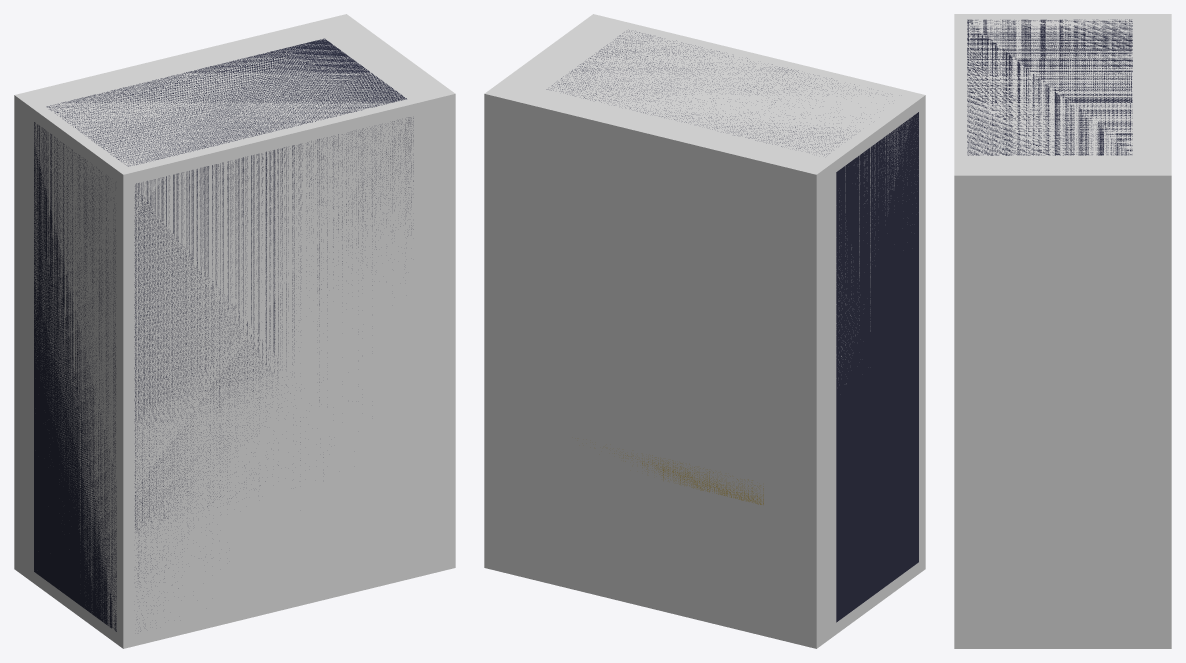
The model's file is time_clock_84.glb.
3 renders of one model, left to right at view 1: azimuth 30°, elevation 25°; view 2: azimuth 150°, elevation 25°; view 3: azimuth 270°, elevation 25°, orthographic.
Visible parts, largest first — view 1: TimeClock-col, TimeClock_Body; view 2: TimeClock-col, TimeClock_Body, TimeClock_Slot; view 3: TimeClock-col, TimeClock_Body.
Part boxes in pixels (x1,y1,x2,y2): TimeClock-col: (14, 14, 455, 648); TimeClock_Body: (34, 38, 413, 631); TimeClock-col: (484, 14, 925, 648); TimeClock_Body: (546, 30, 918, 622); TimeClock_Slot: (614, 453, 763, 504); TimeClock-col: (954, 14, 1171, 648); TimeClock_Body: (967, 19, 1132, 155).
Bounding box in the file's own units: 0.44 × 0.6 × 0.25.
